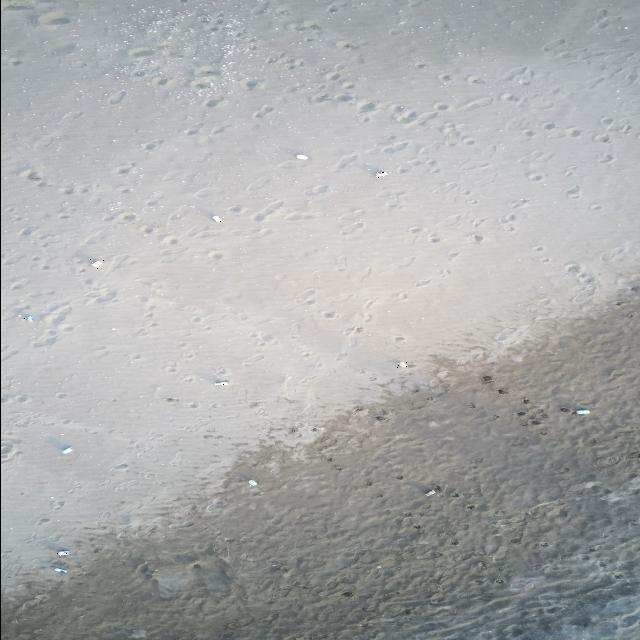Garbage: (47, 432, 72, 453), (424, 484, 440, 495), (575, 407, 590, 415), (376, 169, 387, 178), (91, 259, 103, 267), (52, 566, 67, 572), (296, 152, 307, 160), (213, 380, 227, 386), (424, 488, 435, 495), (61, 446, 72, 453), (396, 360, 407, 367), (482, 375, 492, 382), (56, 550, 70, 555), (23, 313, 32, 320), (247, 479, 256, 486), (213, 215, 221, 220), (560, 407, 567, 412)
